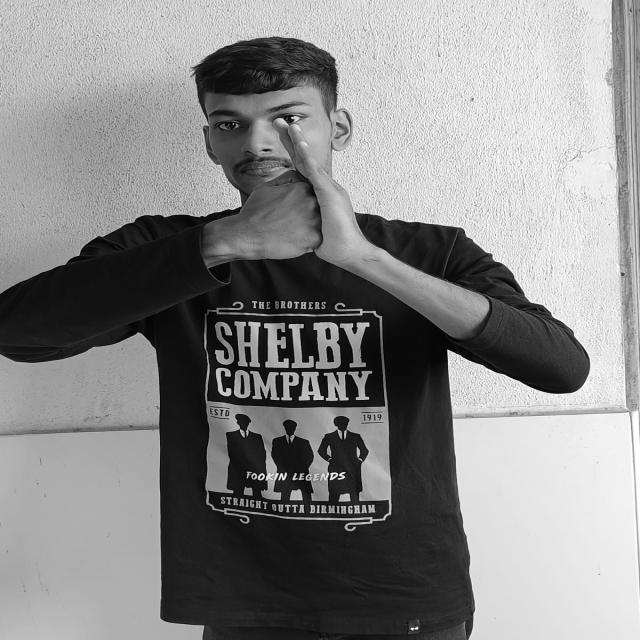Well Done: (242, 116, 370, 270)
